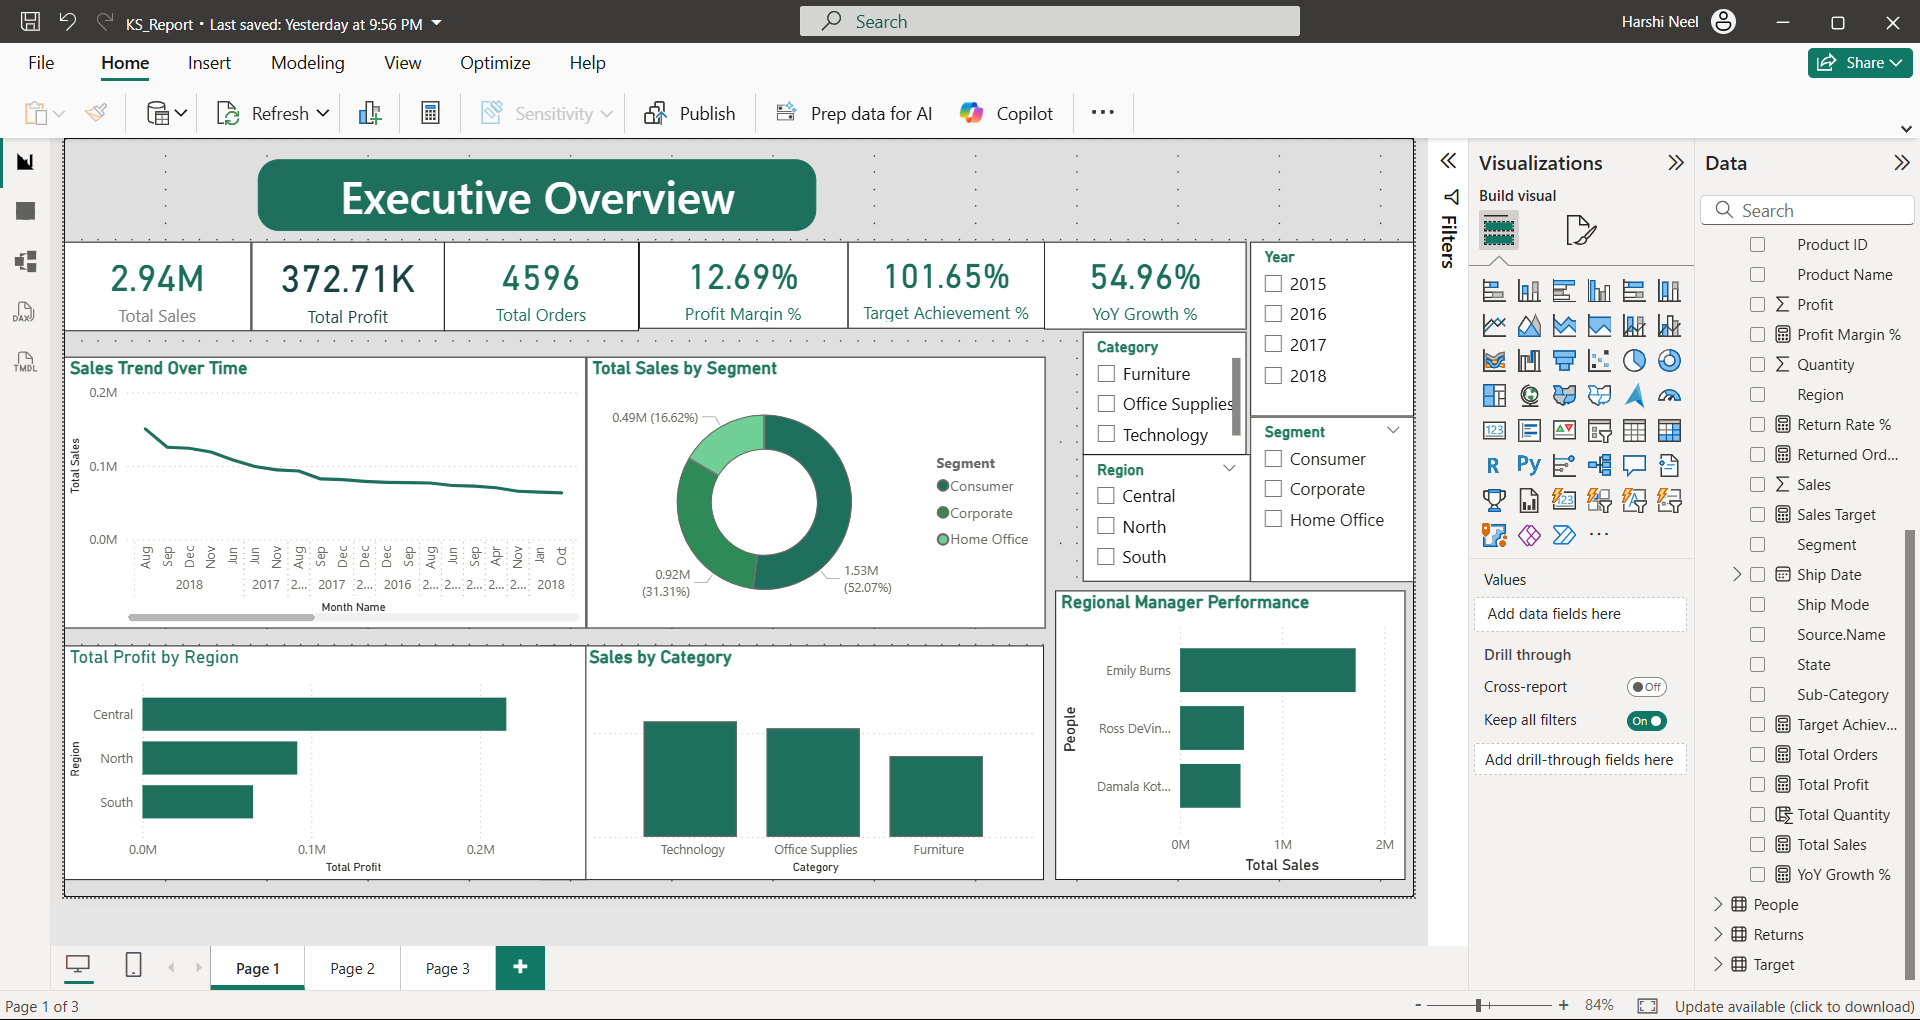

This screenshot's page, from the dashboard's own definition file:
{"tool":"powerbi","page":{"name":"Page 1","canvas":[1280,720],"ordinal":0},"visuals":[{"type":"card","fields":{"Values":["Orders (2).Total Sales"]},"box":[0,98.5,177.2,84.9],"z":0},{"type":"card","fields":{"Values":["Orders (2).Target Achievement %"]},"box":[743.4,98.5,187.1,82.5],"z":2000},{"type":"card","fields":{"Values":["Orders (2).Total Profit"]},"box":[177.2,98.5,183.4,84.9],"z":3000},{"type":"card","fields":{"Values":["Orders (2).Total Orders"]},"box":[360.6,98.5,184.6,84.9],"z":4000},{"type":"card","fields":{"Values":["Orders (2).Profit Margin %"]},"box":[545.2,98.5,198.2,82.5],"z":5000},{"type":"lineChart","title":"Sales Trend Over Time","fields":{"Category":["Date.Year","Date.Month Name"],"Y":["Orders (2).Total Sales"]},"box":[0,207.5,495,257.5],"z":6000},{"type":"clusteredColumnChart","fields":{"Category":["Orders (2).Category"],"Y":["Orders (2).Total Sales"]},"box":[451.7,481.2,477.5,222.8],"z":7000},{"type":"barChart","fields":{"Category":["Orders (2).Region"],"Y":["Orders (2).Total Profit"]},"box":[0,481.2,495,222.5],"z":8000},{"type":"donutChart","fields":{"Category":["Orders (2).Segment"],"Y":["Orders (2).Total Sales"]},"box":[495,207.5,435,257.5],"z":9000},{"type":"slicer","fields":{"Values":["Date.Year"]},"box":[1124.7,98.4,155.3,165.9],"z":10000},{"type":"slicer","fields":{"Values":["Orders (2).Region"]},"box":[965.7,299.4,158.9,121.1],"z":11000},{"type":"slicer","fields":{"Values":["Orders (2).Category"]},"box":[965.7,184,155.4,116.6],"z":12000},{"type":"slicer","fields":{"Values":["Orders (2).Segment"]},"box":[1124.7,264.3,155.3,156.4],"z":13000},{"type":"card","fields":{"Values":["Orders (2).YoY Growth %"]},"box":[929.2,98.4,192,83],"z":14000},{"type":"clusteredBarChart","title":"Regional Manager Performance","fields":{"Category":["People.People"],"Y":["Orders (2).Total Sales"]},"box":[940.3,429.5,332.3,274.5],"z":15000},{"type":"textbox","title":"Executive Overview","box":[183.4,19.7,529.2,67.7],"z":16000}]}

Visuals, with their boxes on the page's 1280x720 design canvas (x1, y1, x2, y2). These are canvas units, not pixel positions in the 1920x1020 screenshot, which may show the page scaled, cropped or inside an application window:
card - Orders (2).Total Sales: x1=0, y1=98, x2=177, y2=183
card - Orders (2).Target Achievement %: x1=743, y1=98, x2=930, y2=181
card - Orders (2).Total Profit: x1=177, y1=98, x2=361, y2=183
card - Orders (2).Total Orders: x1=361, y1=98, x2=545, y2=183
card - Orders (2).Profit Margin %: x1=545, y1=98, x2=743, y2=181
"Sales Trend Over Time" lineChart: x1=0, y1=208, x2=495, y2=465
clusteredColumnChart - Orders (2).Category x Orders (2).Total Sales: x1=452, y1=481, x2=929, y2=704
barChart - Orders (2).Region x Orders (2).Total Profit: x1=0, y1=481, x2=495, y2=704
donutChart - Orders (2).Segment x Orders (2).Total Sales: x1=495, y1=208, x2=930, y2=465
slicer - Date.Year: x1=1125, y1=98, x2=1280, y2=264
slicer - Orders (2).Region: x1=966, y1=299, x2=1125, y2=420
slicer - Orders (2).Category: x1=966, y1=184, x2=1121, y2=301
slicer - Orders (2).Segment: x1=1125, y1=264, x2=1280, y2=421
card - Orders (2).YoY Growth %: x1=929, y1=98, x2=1121, y2=181
"Regional Manager Performance" clusteredBarChart: x1=940, y1=430, x2=1273, y2=704
"Executive Overview" textbox: x1=183, y1=20, x2=713, y2=87
